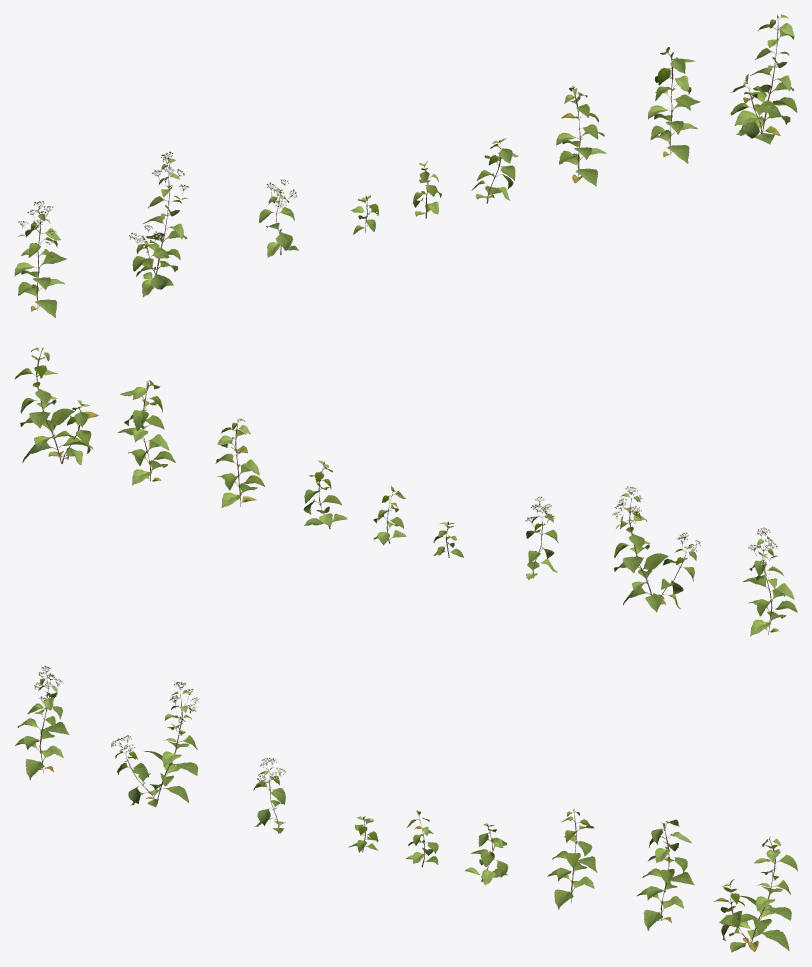
The model's file is shrub_01.fbx.
The picture shows the model from 3 angles, top to bottom: view 1: azimuth 30°, elevation 25°; view 2: azimuth 150°, elevation 25°; view 3: azimuth 330°, elevation 25°; orthographic projection. The views are drawn at different scales.
Parts seen in each view (by area): view 1: shrub_01; view 2: shrub_01; view 3: shrub_01.
Boxes of the visible parts, <box> form: shrub_01: <box>14,14,797,317</box>; shrub_01: <box>14,347,797,636</box>; shrub_01: <box>15,665,797,952</box>.
Size of the model in its own units: 2.59 by 0.3961 by 0.2185.
Materials: 1 (1 with a texture image).
